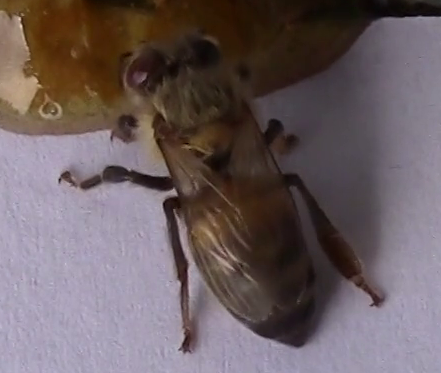Varroa destructor: (123, 53, 168, 90)
